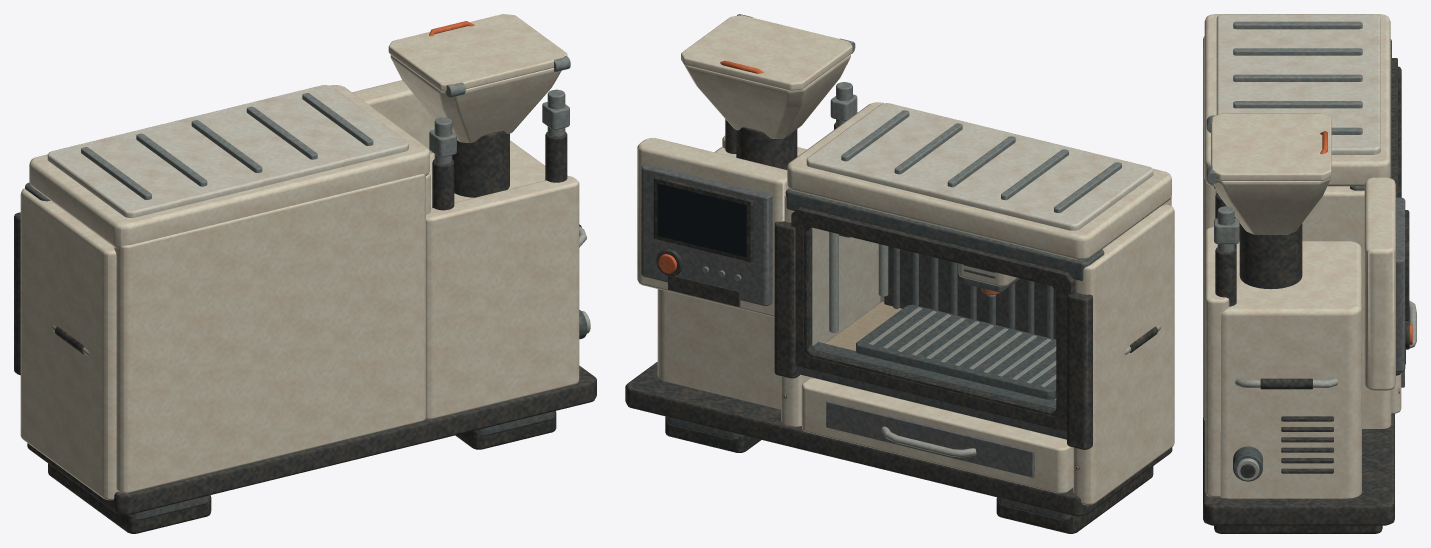
Rendered from print_shop_printer_packed.glb.
The picture shows the model from 3 angles, left to right: view 1: azimuth 30°, elevation 25°; view 2: azimuth 150°, elevation 25°; view 3: azimuth 270°, elevation 25°; orthographic projection. The views are drawn at different scales.
Visible parts, largest first — view 1: PrintShopPrinter_hardware_rover_white, Roof_access_panel_white_painted, PrintShopPrinter_hardware_graphite, HopperCover_rover_white, Feedstock_hopper_rover_white, PrintShopPrinter_hardware_alloy, PrintShopPrinter_hardware_black_rubber, PrintShopPrinter_hardware_dark_alloy, HopperMidGuides_hardware_alloy; view 2: PrintShopPrinter_hardware_rover_white, PrintShopPrinter_hardware_graphite, ChamberWindow, Roof_access_panel_white_painted, PrintShopPrinter_hardware_dark_alloy, PrintShopPrinter_hardware_slate_panel, Output_drawer_fascia_rover_white, PrintShopPrinter_hardware_black_rubber, HopperCover_rover_white, Feedstock_hopper_rover_white, OutputDrawer_hardware_slate_panel, PrintShopPrinter_hardware_satin_steel (+6 smaller); view 3: PrintShopPrinter_hardware_rover_white, PrintShopPrinter_hardware_graphite, Roof_access_panel_white_painted, HopperCover_rover_white, Feedstock_hopper_rover_white, PrintShopPrinter_hardware_alloy, PrintShopPrinter_hardware_black_rubber, PrintShopPrinter_hardware_slate_panel, PrintShopPrinter_hardware_dark_alloy, Fabricator_padded_grip_black_rubber.001, Hopper_lift_cross_carriage_alloy.001, HopperMidGuides_hardware_alloy (+4 smaller).
Part boxes in pixels (bbox=[...]): PrintShopPrinter_hardware_rover_white: bbox=[20, 80, 579, 500]; Roof_access_panel_white_painted: bbox=[47, 85, 408, 217]; PrintShopPrinter_hardware_graphite: bbox=[14, 131, 596, 514]; HopperCover_rover_white: bbox=[388, 14, 567, 91]; Feedstock_hopper_rover_white: bbox=[390, 55, 561, 142]; PrintShopPrinter_hardware_alloy: bbox=[81, 93, 373, 199]; PrintShopPrinter_hardware_black_rubber: bbox=[48, 411, 556, 533]; PrintShopPrinter_hardware_dark_alloy: bbox=[25, 182, 587, 520]; HopperMidGuides_hardware_alloy: bbox=[434, 89, 565, 164]; PrintShopPrinter_hardware_rover_white: bbox=[637, 102, 1174, 505]; PrintShopPrinter_hardware_graphite: bbox=[625, 119, 1172, 516]; ChamberWindow: bbox=[809, 228, 1055, 411]; Roof_access_panel_white_painted: bbox=[806, 103, 1153, 230]; PrintShopPrinter_hardware_dark_alloy: bbox=[666, 188, 1104, 520]; PrintShopPrinter_hardware_slate_panel: bbox=[641, 164, 1053, 338]; Output_drawer_fascia_rover_white: bbox=[801, 378, 1073, 493]; PrintShopPrinter_hardware_black_rubber: bbox=[653, 176, 1153, 533]; HopperCover_rover_white: bbox=[681, 15, 852, 90]; Feedstock_hopper_rover_white: bbox=[684, 54, 850, 138]; OutputDrawer_hardware_slate_panel: bbox=[826, 400, 1034, 477]; PrintShopPrinter_hardware_satin_steel: bbox=[782, 232, 1078, 469]; PrintShopPrinter_hardware_rover_white: bbox=[1203, 14, 1395, 498]; PrintShopPrinter_hardware_graphite: bbox=[1203, 58, 1409, 525]; Roof_access_panel_white_painted: bbox=[1216, 14, 1380, 154]; HopperCover_rover_white: bbox=[1211, 113, 1331, 180]; Feedstock_hopper_rover_white: bbox=[1211, 130, 1330, 234]; PrintShopPrinter_hardware_alloy: bbox=[1233, 21, 1362, 134]; PrintShopPrinter_hardware_black_rubber: bbox=[1214, 210, 1409, 533]; PrintShopPrinter_hardware_slate_panel: bbox=[1396, 197, 1405, 371]; PrintShopPrinter_hardware_dark_alloy: bbox=[1233, 39, 1399, 481]; Fabricator_padded_grip_black_rubber.001: bbox=[1260, 378, 1312, 389]; Hopper_lift_cross_carriage_alloy.001: bbox=[1214, 218, 1239, 244]; HopperMidGuides_hardware_alloy: bbox=[1217, 193, 1234, 252].
Size of the model in its own units: 1.58 by 1.14 by 0.595.
13 materials, 10 textured.
